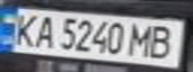0: (106, 19, 130, 55)
2: (72, 17, 93, 53)
4: (90, 19, 112, 55)
5: (54, 15, 78, 52)
A: (30, 12, 60, 50)
B: (145, 21, 184, 60)
K: (6, 10, 42, 48)
M: (127, 20, 160, 57)
